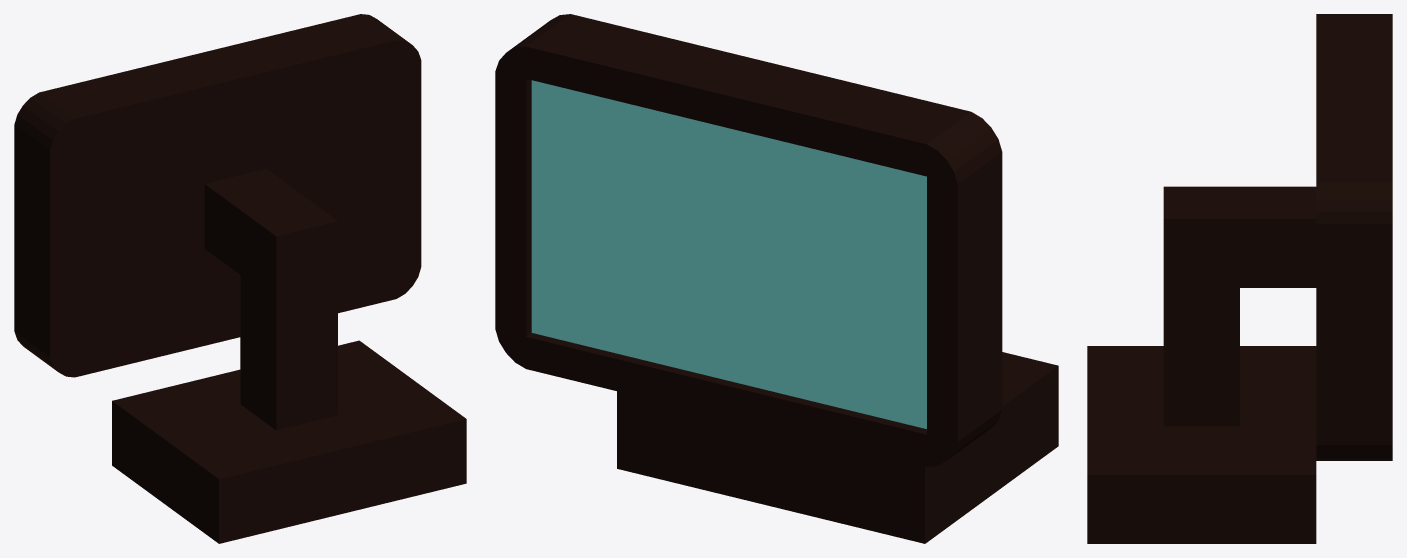
File: bilgisayar.fbx
3 renders of one model, left to right at view 1: azimuth 30°, elevation 25°; view 2: azimuth 150°, elevation 25°; view 3: azimuth 270°, elevation 25°, orthographic. The views are drawn at different scales.
Visible parts, largest first — view 1: Cube.001; view 2: Cube.001; view 3: Cube.001.
Boxes of the visible parts, x1,y1,x2,y2 form: Cube.001: (14,14,466,543); Cube.001: (495,14,1058,543); Cube.001: (1087,14,1392,543).
Size of the model in its own units: 60 by 55 by 40.
